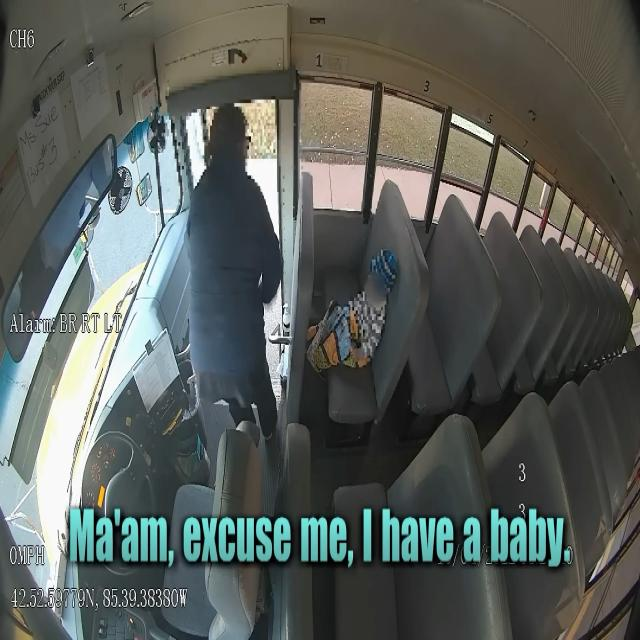bus-door: (185, 109, 206, 187)
